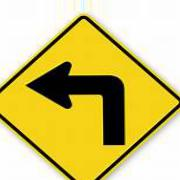left: (1, 14, 180, 180)
